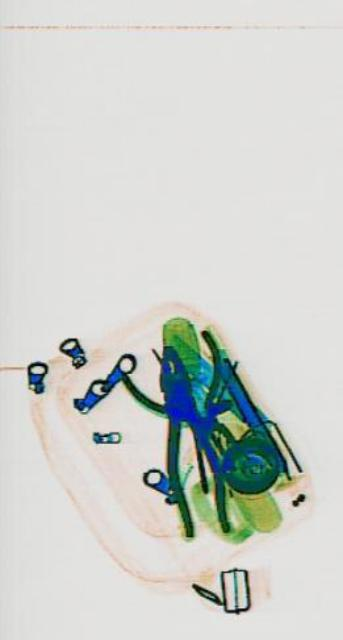Pliers: (115, 270, 264, 522), (143, 330, 232, 556)
